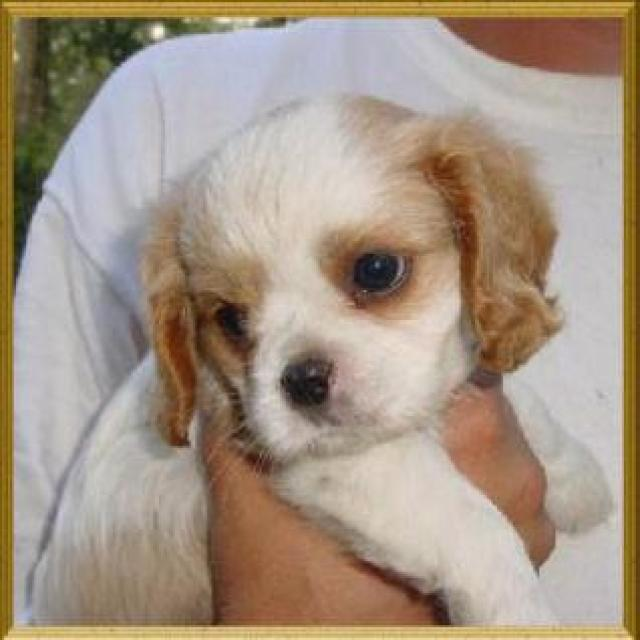blenheim_spaniel: (26, 90, 620, 629)
